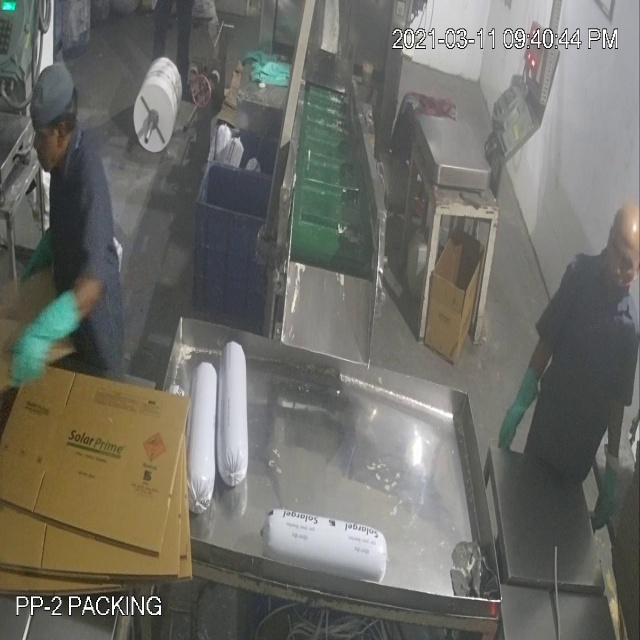Guantes: (6, 276, 98, 399), (491, 363, 546, 472), (580, 425, 623, 543)
